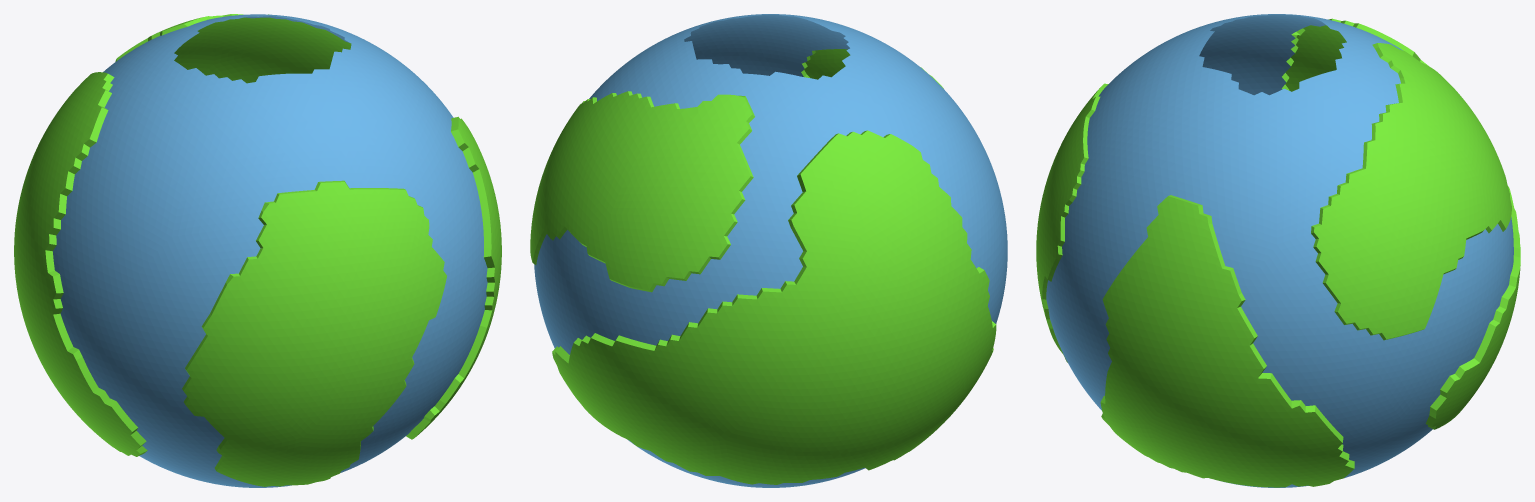
File: planet.fbx
3 renders of one model, left to right at view 1: azimuth 30°, elevation 25°; view 2: azimuth 150°, elevation 25°; view 3: azimuth 270°, elevation 25°, orthographic.
Parts seen in each view (by area): view 1: Icosphere; view 2: Icosphere; view 3: Icosphere.
Boxes of the visible parts, x1,y1,x2,y2 form: Icosphere: (14,14,501,487); Icosphere: (530,14,1007,487); Icosphere: (1036,14,1520,487).
Bounding box in the file's own units: 2057 × 1932 × 2044.
